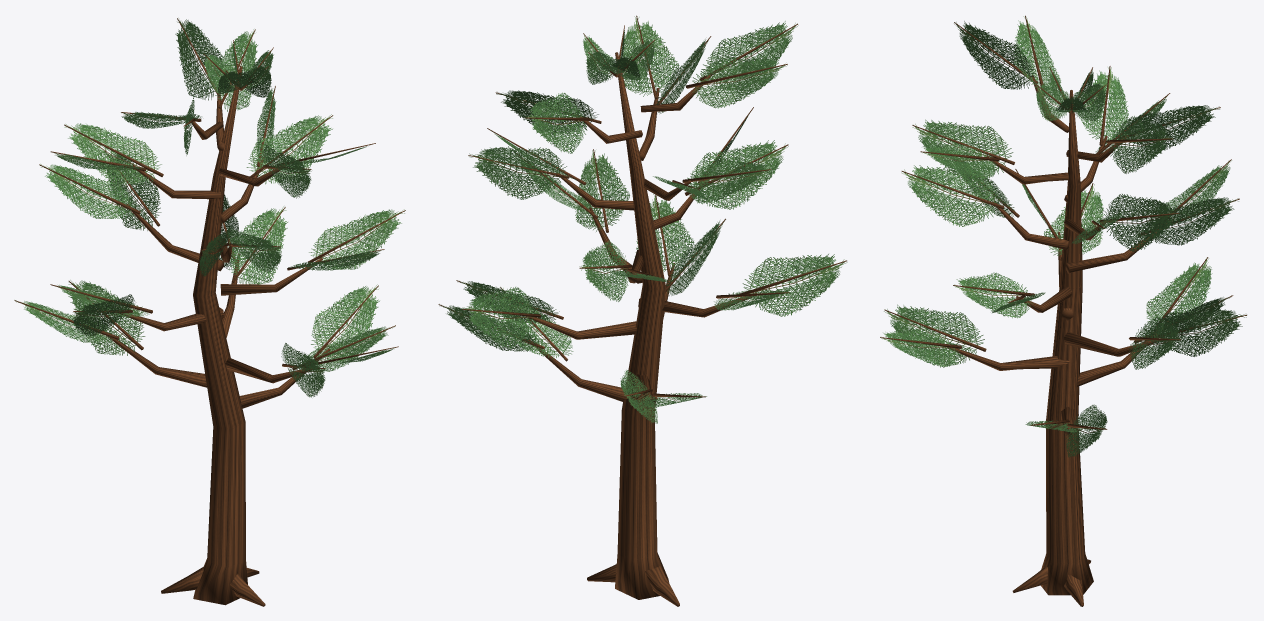
File: NaturalPine_LOD2.glb
3 renders of one model, left to right at view 1: azimuth 30°, elevation 25°; view 2: azimuth 150°, elevation 25°; view 3: azimuth 270°, elevation 25°, orthographic. The views are drawn at different scales.
Parts seen in each view (by area): view 1: SM_NaturalPine_Foliage_LOD2, SM_NaturalPine_Bark_LOD2; view 2: SM_NaturalPine_Foliage_LOD2, SM_NaturalPine_Bark_LOD2; view 3: SM_NaturalPine_Foliage_LOD2, SM_NaturalPine_Bark_LOD2.
Boxes of the visible parts, box(x1,y1,x2,y2) form: SM_NaturalPine_Foliage_LOD2: box(16, 19, 404, 397); SM_NaturalPine_Bark_LOD2: box(14, 18, 405, 606); SM_NaturalPine_Foliage_LOD2: box(441, 16, 847, 423); SM_NaturalPine_Bark_LOD2: box(438, 15, 846, 606); SM_NaturalPine_Foliage_LOD2: box(881, 16, 1246, 457); SM_NaturalPine_Bark_LOD2: box(880, 15, 1246, 606).
Size of the model in its own units: 5.71 by 8.26 by 5.26.
2 materials, 2 textured.
